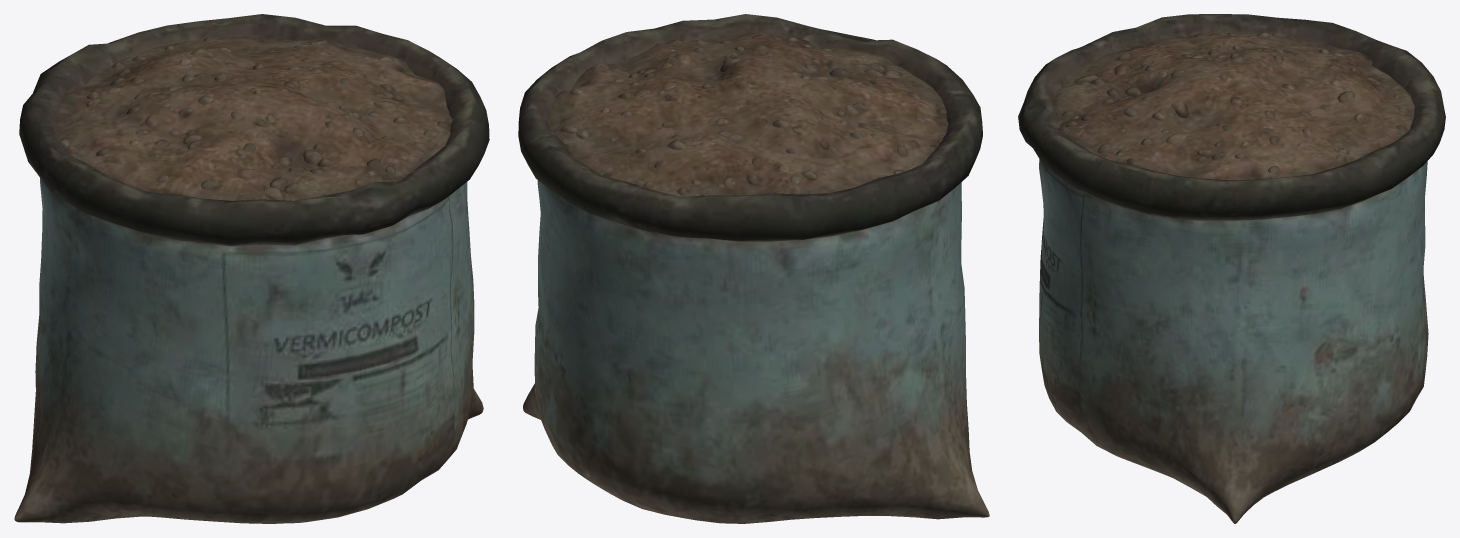
Rendered from compost_bag_02.glb.
3 renders of one model, left to right at view 1: azimuth 30°, elevation 25°; view 2: azimuth 150°, elevation 25°; view 3: azimuth 270°, elevation 25°, orthographic. The views are drawn at different scales.
Parts seen in each view (by area): view 1: compost_bag_02; view 2: compost_bag_02; view 3: compost_bag_02.
Part boxes in pixels (x1,y1,x2,y2): compost_bag_02: [14, 14, 489, 523]; compost_bag_02: [518, 14, 989, 523]; compost_bag_02: [1018, 14, 1445, 523].
Size of the model in its own units: 0.5393 by 0.4337 by 0.4705.
Materials: 1 (1 with a texture image).
